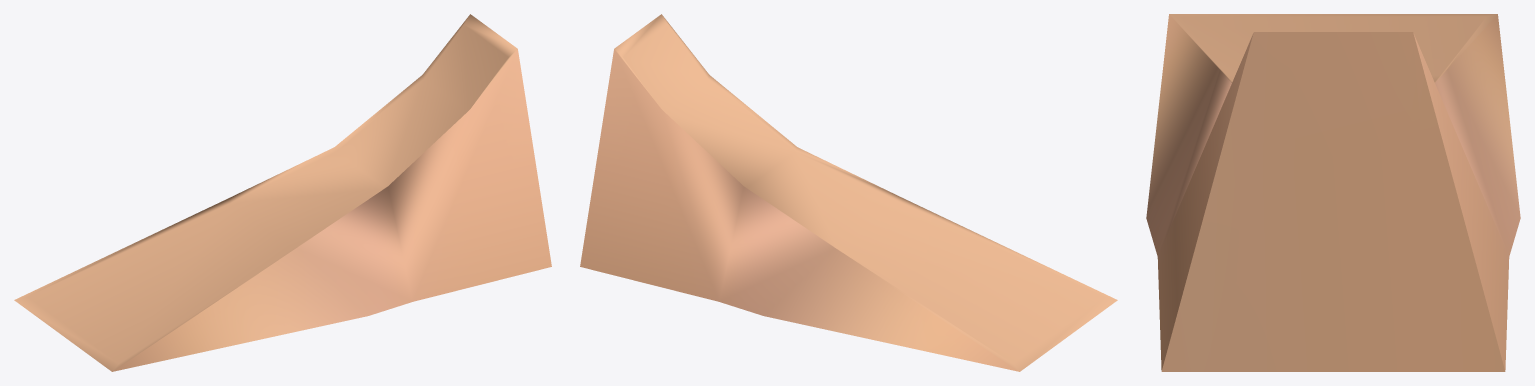
Rendered from DirtBikeSandTrackJumpNarrow.glb.
3 renders of one model, left to right at view 1: azimuth 30°, elevation 25°; view 2: azimuth 150°, elevation 25°; view 3: azimuth 270°, elevation 25°, orthographic. The views are drawn at different scales.
Visible parts, largest first — view 1: DirtBikeSandTrackJumpNarrow; view 2: DirtBikeSandTrackJumpNarrow; view 3: DirtBikeSandTrackJumpNarrow.
Part boxes in pixels (x1,y1,x2,y2): DirtBikeSandTrackJumpNarrow: (14,14,551,371); DirtBikeSandTrackJumpNarrow: (580,14,1117,371); DirtBikeSandTrackJumpNarrow: (1146,14,1520,371).
Bounding box in the file's own units: 7.5 × 3.27 × 3.32.
1 material, 1 textured.
